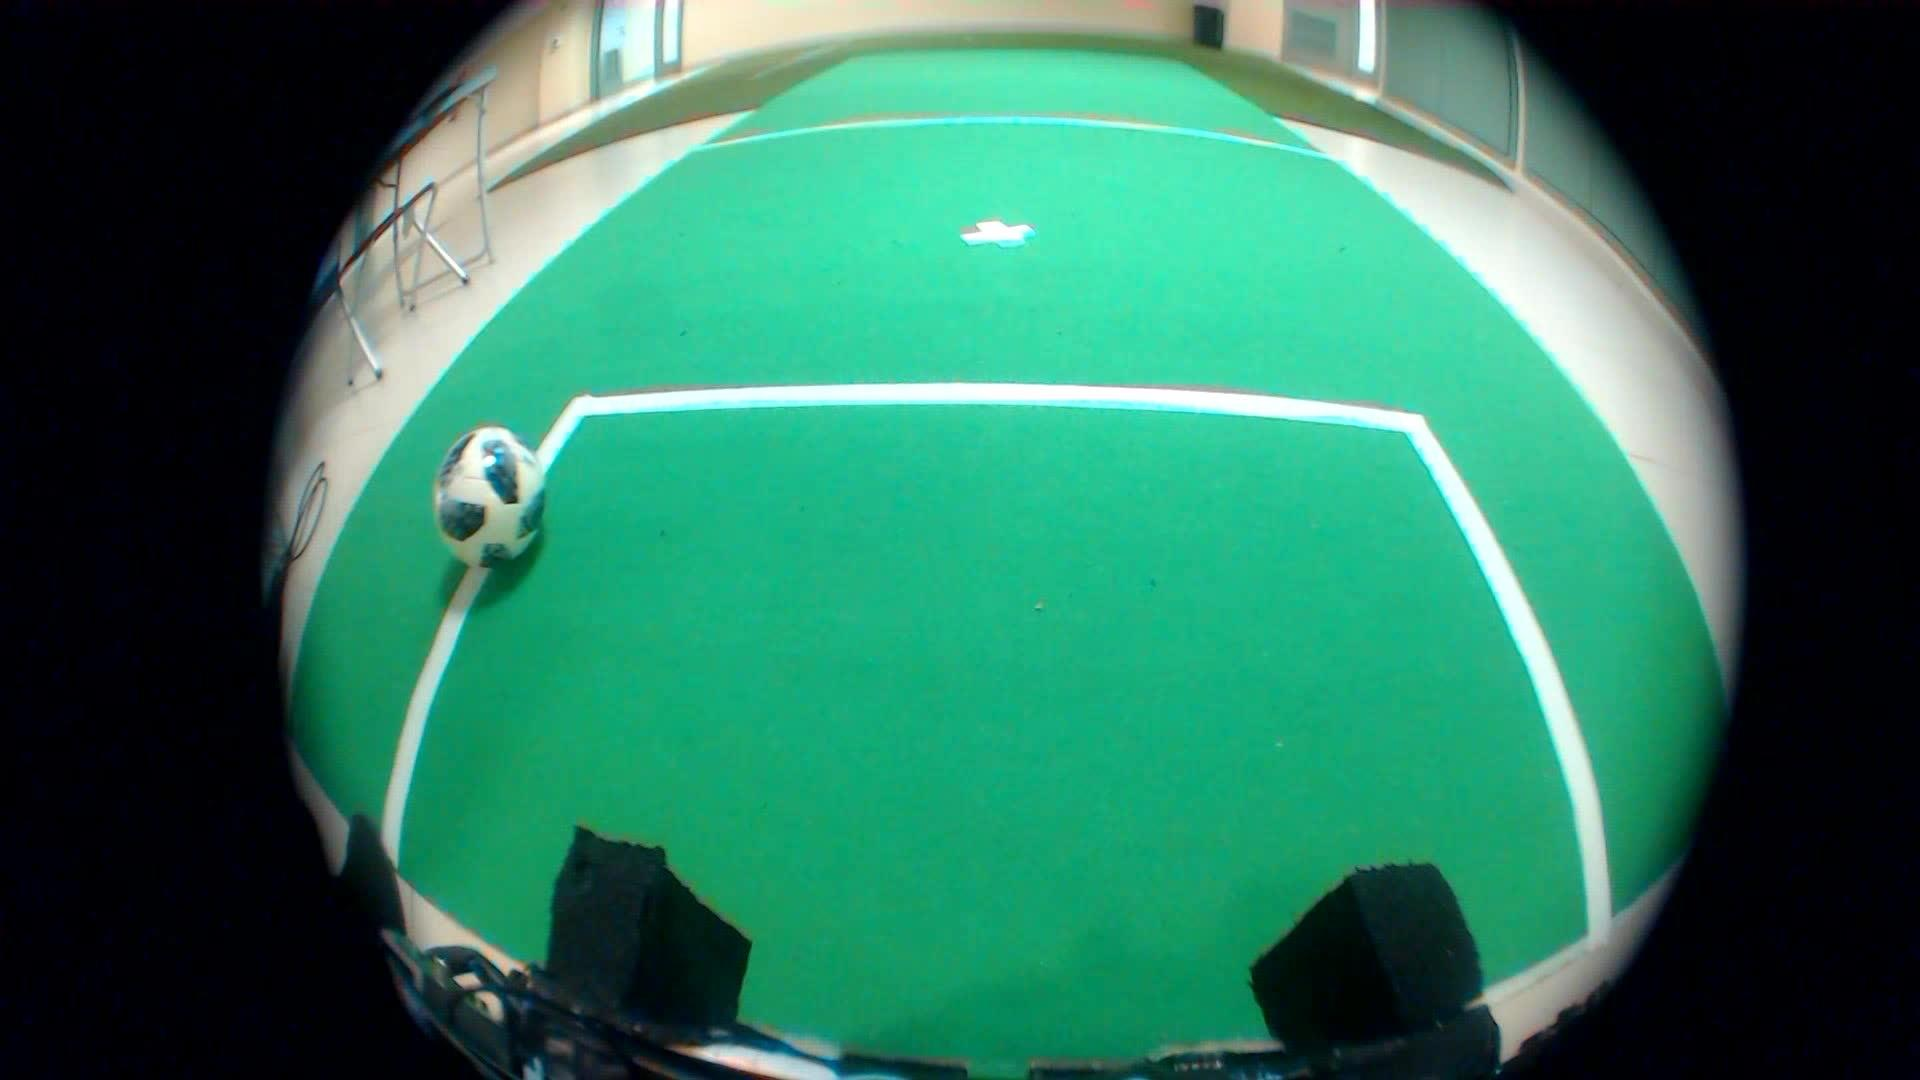ball: (429, 415, 558, 578)
